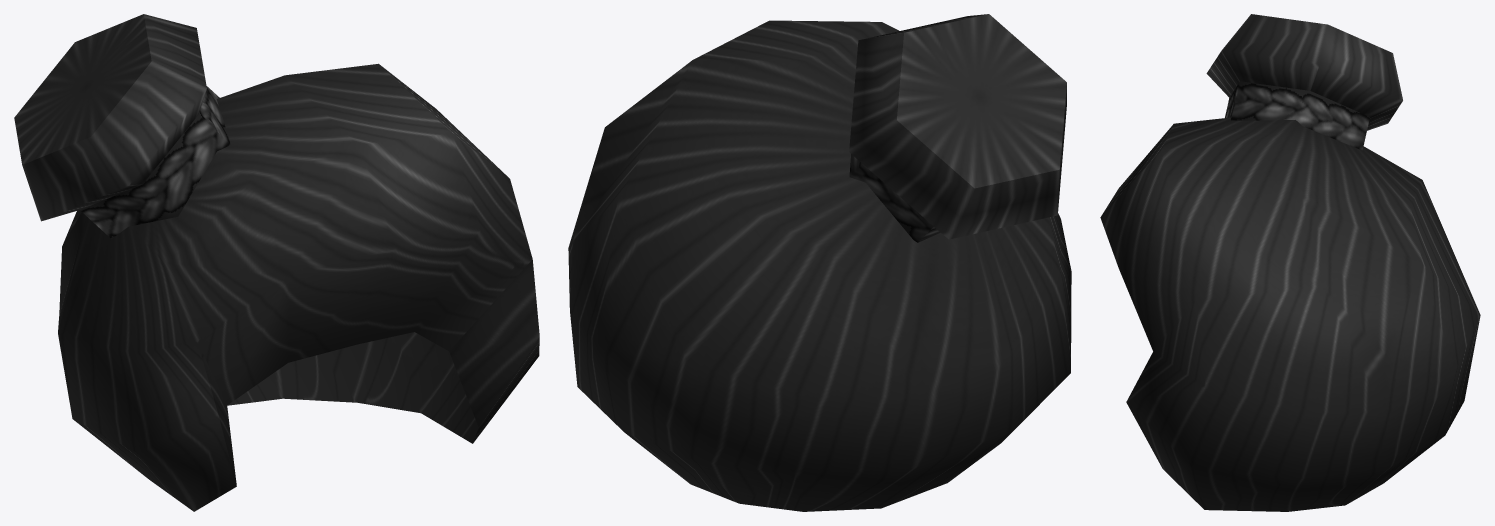
File: Hair_BraidedBun.FBX
3 renders of one model, left to right at view 1: azimuth 30°, elevation 25°; view 2: azimuth 150°, elevation 25°; view 3: azimuth 270°, elevation 25°, orthographic. The views are drawn at different scales.
Parts seen in each view (by area): view 1: braidbun; view 2: braidbun; view 3: braidbun.
Boxes of the visible parts, left/top/right/bottom form: braidbun: left=14, top=14, right=539, bottom=511; braidbun: left=568, top=14, right=1071, bottom=511; braidbun: left=1100, top=14, right=1480, bottom=511.
Bounding box in the file's own units: 287 × 266 × 237.
Materials: 1 (1 with a texture image).
